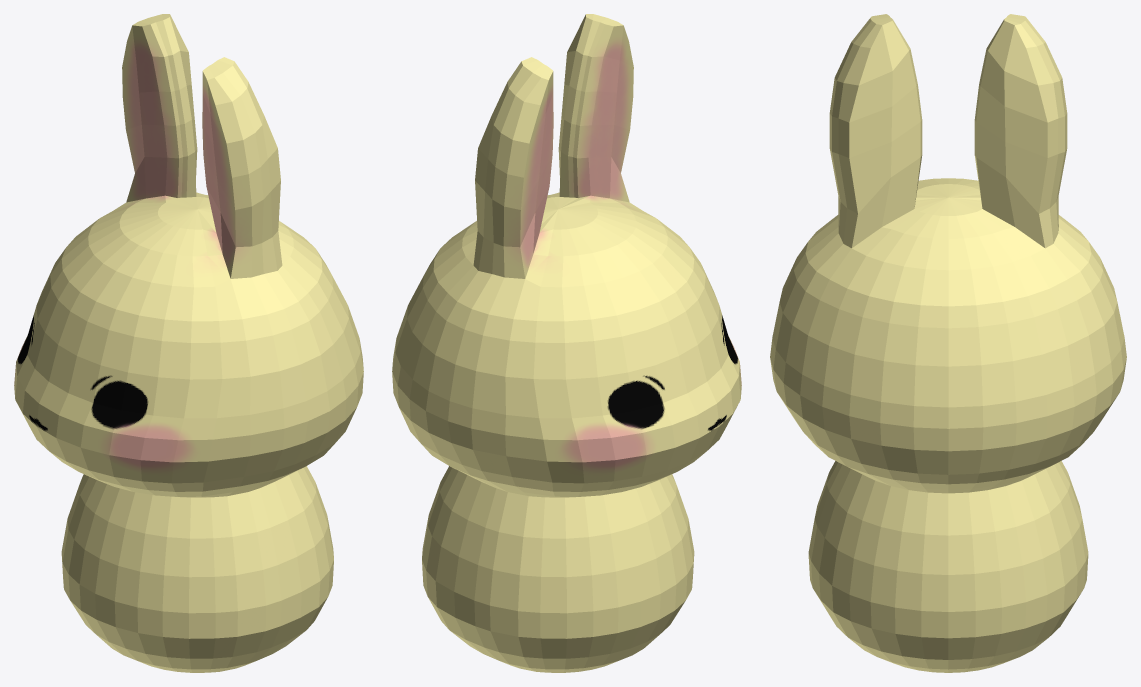
File: hapticos_bunny.fbx
3 views of the same model, side by side, from view 1: azimuth 30°, elevation 25°; view 2: azimuth 150°, elevation 25°; view 3: azimuth 270°, elevation 25° (orthographic). The views are drawn at different scales.
Visible parts, largest first — view 1: Conejo Completo; view 2: Conejo Completo; view 3: Conejo Completo.
Part boxes in pixels (x1=…): Conejo Completo: x1=14, y1=14, x2=363, y2=672; Conejo Completo: x1=392, y1=14, x2=741, y2=672; Conejo Completo: x1=770, y1=14, x2=1126, y2=672.
Size of the model in its own units: 172 by 334 by 170.
Materials: 1 (1 with a texture image).
